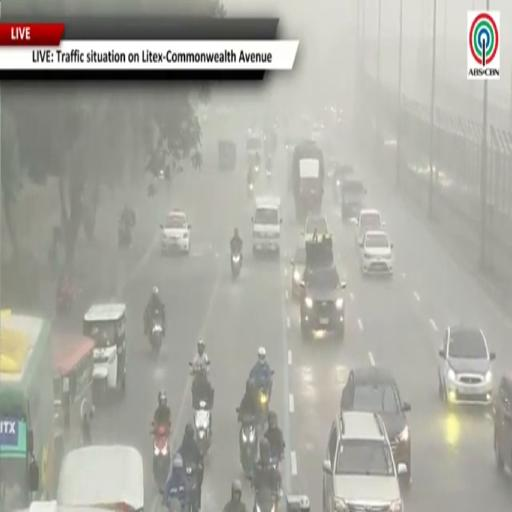bus: (0, 311, 56, 509)
car: (340, 365, 411, 485), (323, 412, 405, 511), (300, 237, 346, 339), (439, 326, 495, 405), (493, 373, 511, 471), (252, 197, 282, 254), (359, 231, 394, 275), (161, 210, 191, 253), (338, 176, 366, 221), (353, 208, 385, 244), (290, 248, 306, 298), (302, 214, 330, 241)
jeepney: (57, 445, 144, 511), (53, 333, 94, 468), (83, 303, 126, 399)
motorcycle: (152, 423, 170, 490), (240, 416, 257, 477), (194, 400, 211, 457), (258, 371, 273, 421), (185, 464, 199, 511), (149, 313, 163, 355), (254, 488, 278, 511), (164, 487, 186, 511), (56, 288, 74, 314), (258, 387, 270, 424), (119, 224, 132, 248), (231, 252, 242, 279), (270, 453, 281, 472), (167, 498, 183, 511), (247, 182, 254, 198), (266, 169, 271, 179)
truck: (291, 140, 325, 221)
